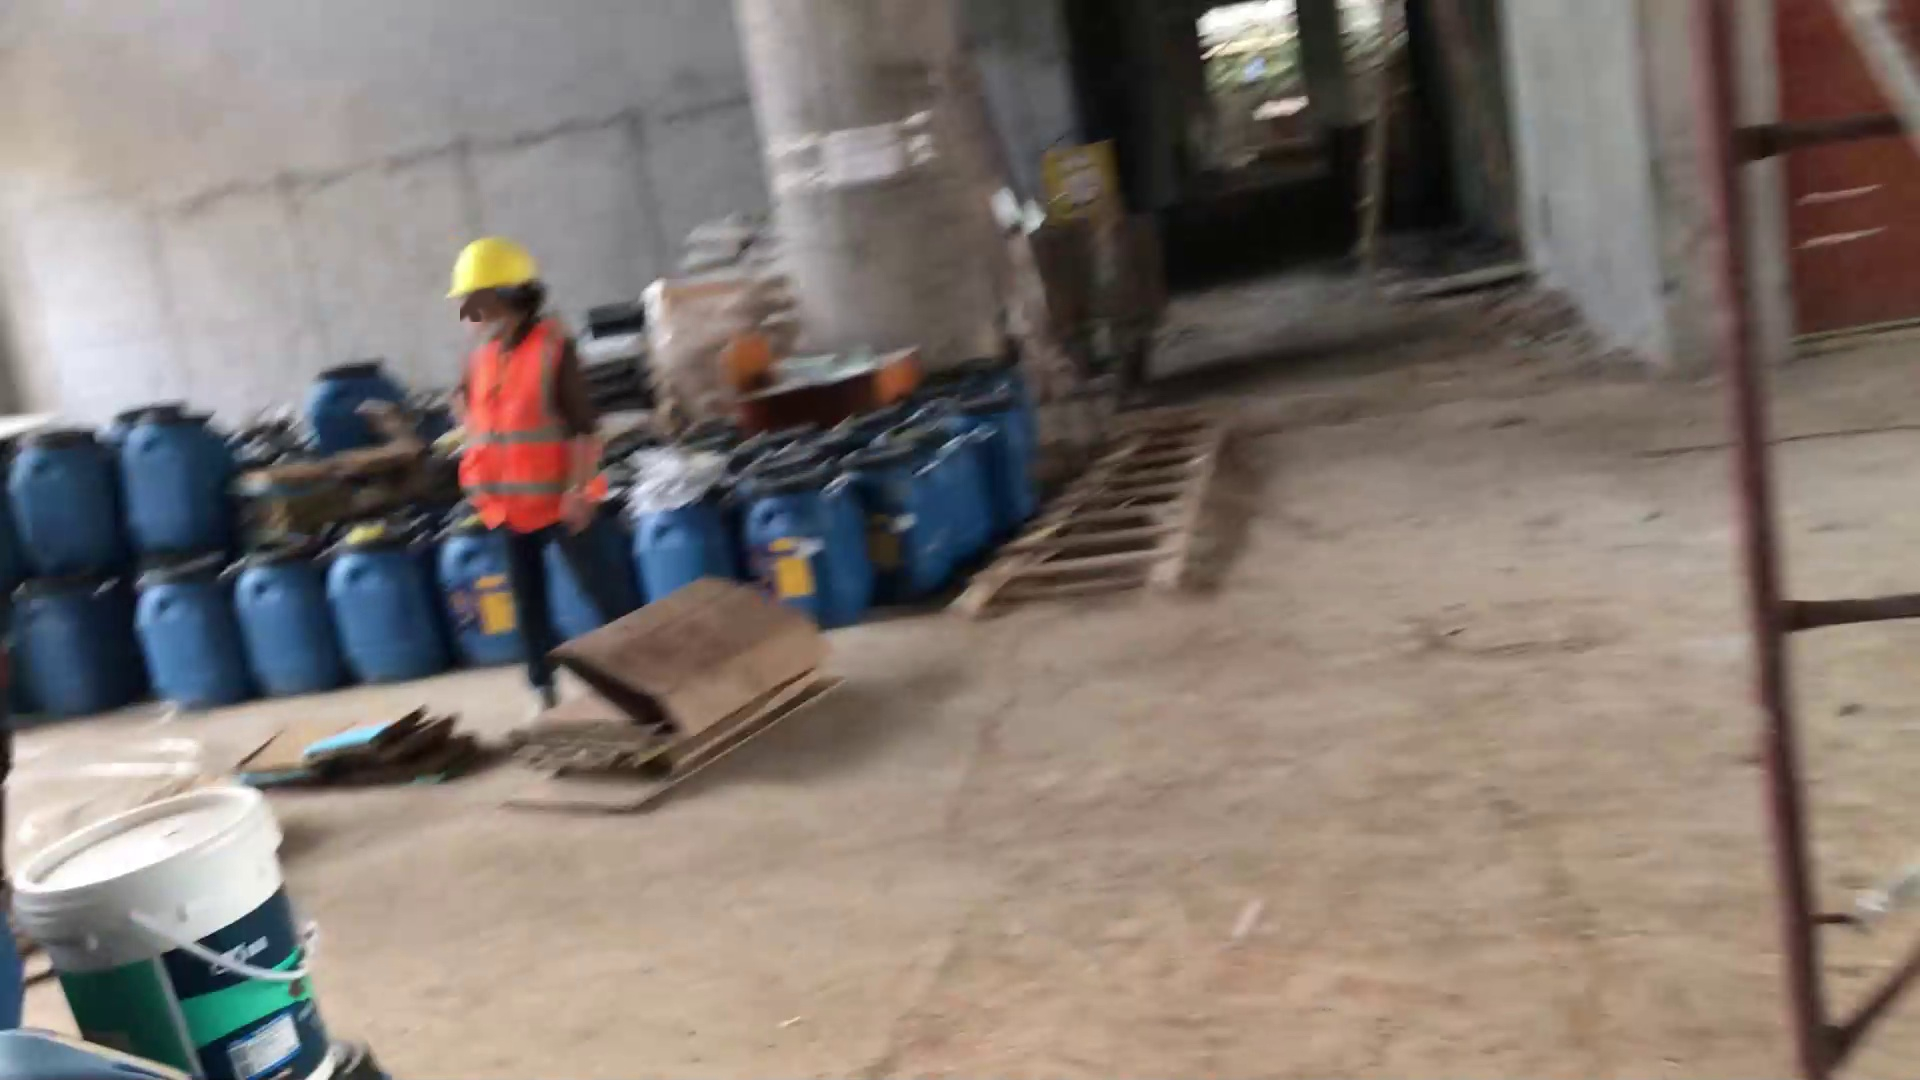helmet: (449, 234, 539, 302)
person: (445, 233, 654, 716)
vest: (453, 317, 604, 533)
